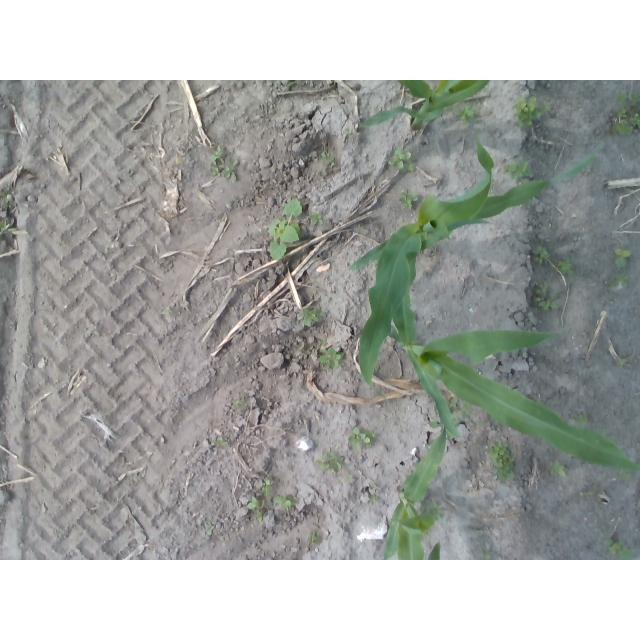Maize: (349, 135, 596, 385), (394, 220, 638, 473), (383, 428, 446, 561), (359, 81, 489, 132), (430, 541, 441, 560)
Weeds: (266, 198, 302, 260), (515, 97, 541, 128), (490, 443, 516, 470), (348, 426, 371, 450), (318, 449, 342, 472), (505, 160, 531, 181), (388, 148, 413, 169), (319, 348, 341, 369), (247, 498, 265, 522), (456, 103, 476, 122), (302, 308, 323, 325), (401, 190, 418, 211), (224, 160, 240, 182), (532, 245, 549, 264), (558, 259, 575, 277), (618, 93, 639, 107), (273, 495, 295, 507), (496, 470, 516, 483), (426, 503, 443, 518), (615, 249, 629, 267), (1, 220, 16, 236), (550, 462, 566, 475), (298, 343, 311, 358), (262, 479, 275, 493), (233, 397, 247, 410), (615, 124, 633, 134), (618, 549, 634, 560), (212, 146, 223, 162), (540, 300, 557, 310), (616, 274, 629, 287), (609, 540, 621, 553), (310, 212, 323, 224), (536, 282, 548, 295), (205, 525, 215, 536), (211, 165, 221, 176), (216, 438, 228, 447), (322, 151, 335, 159), (621, 473, 632, 482), (633, 113, 640, 127), (617, 110, 627, 119), (1, 188, 8, 200), (577, 413, 586, 422), (317, 339, 328, 346), (482, 552, 491, 559), (348, 476, 357, 483), (311, 532, 318, 541), (544, 102, 551, 111), (608, 281, 617, 288), (534, 297, 544, 303), (339, 351, 346, 359), (162, 310, 172, 315), (369, 431, 376, 438), (371, 495, 377, 502), (583, 492, 591, 497), (550, 292, 556, 298)
